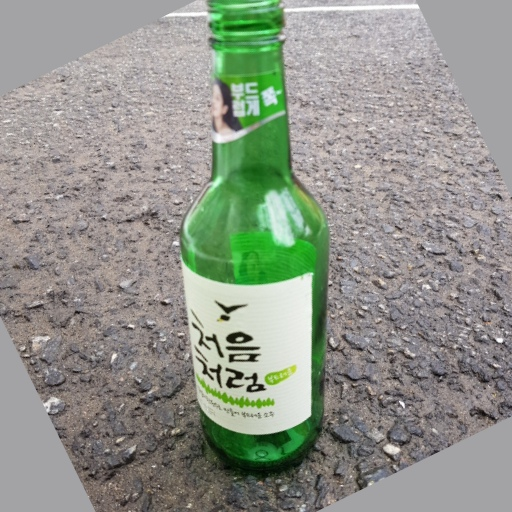Glass_0: (181, 1, 330, 472)
